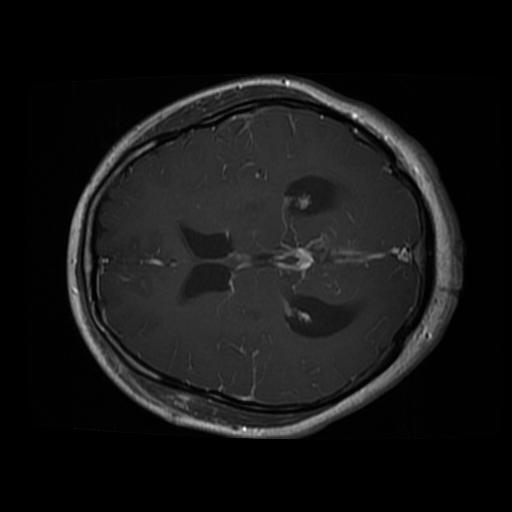glioma: (282, 292, 360, 337)
